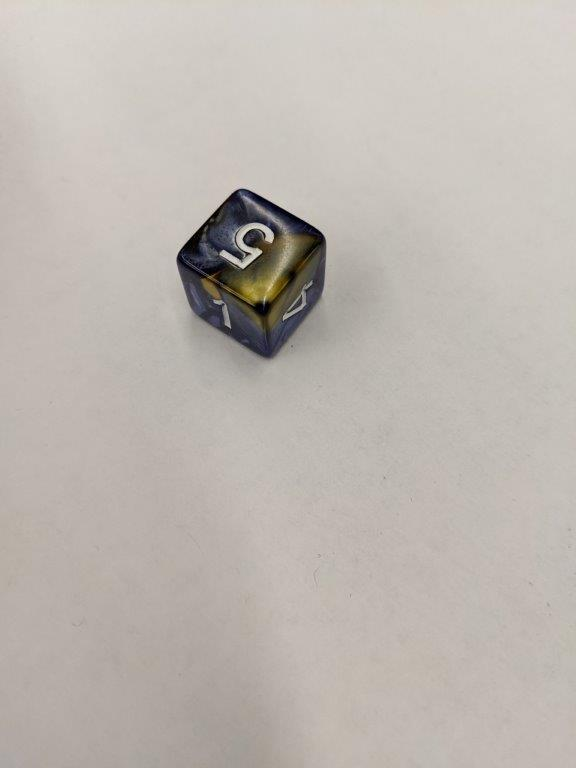d6-5: (177, 187, 327, 360)
